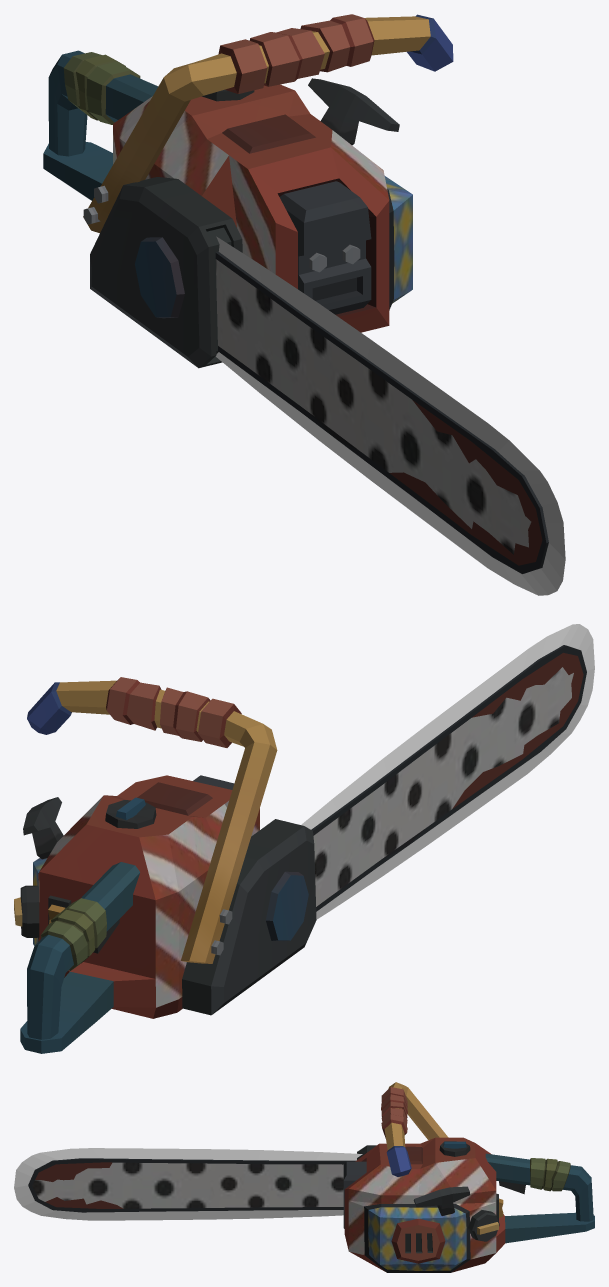
The model's file is SM_Wep_Chainsaw_01.glb.
The picture shows the model from 3 angles, top to bottom: view 1: azimuth 30°, elevation 25°; view 2: azimuth 150°, elevation 25°; view 3: azimuth 270°, elevation 25°; orthographic projection. The views are drawn at different scales.
Visible parts, largest first — view 1: SM_Wep_Chainsaw_01; view 2: SM_Wep_Chainsaw_01; view 3: SM_Wep_Chainsaw_01.
Boxes of the visible parts, left/top/right/bottom form: SM_Wep_Chainsaw_01: left=43, top=14, right=565, bottom=595; SM_Wep_Chainsaw_01: left=14, top=624, right=594, bottom=1053; SM_Wep_Chainsaw_01: left=14, top=1082, right=594, bottom=1272.
Size of the model in its own units: 33.16 by 31.36 by 111.
Materials: 2 (1 with a texture image).
